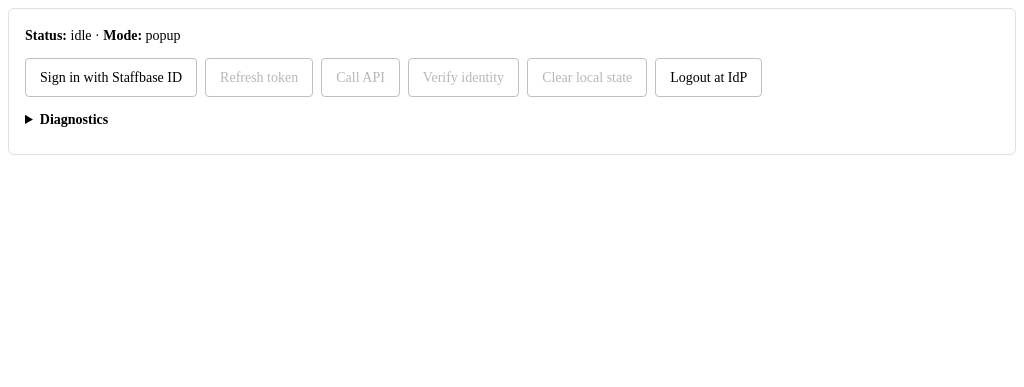
it: OauthClient › keeps waiting while the popup is still cross-origin at the IdP
This screenshot has width=1024, height=387.
Click the button "Sign in with Staffbase ID" at (111, 78), box [25,58,197,97]
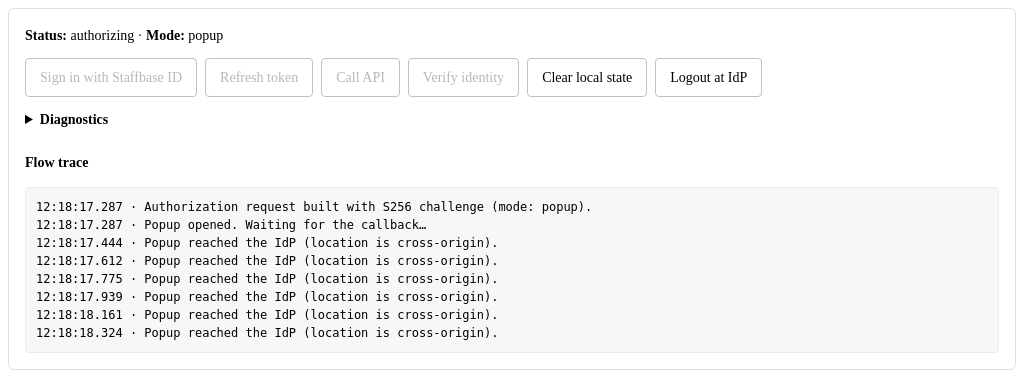
Check: the text "Status: authorizing · Mode: popup" is shown, box [25,28,223,43]
